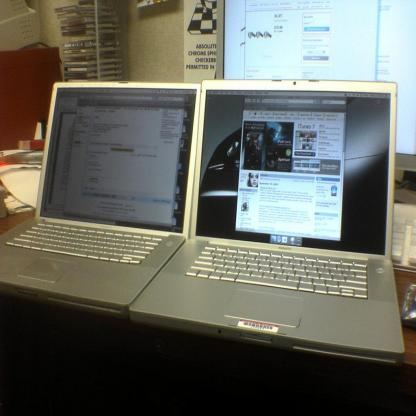board: (130, 81, 404, 360), (2, 85, 225, 311)
